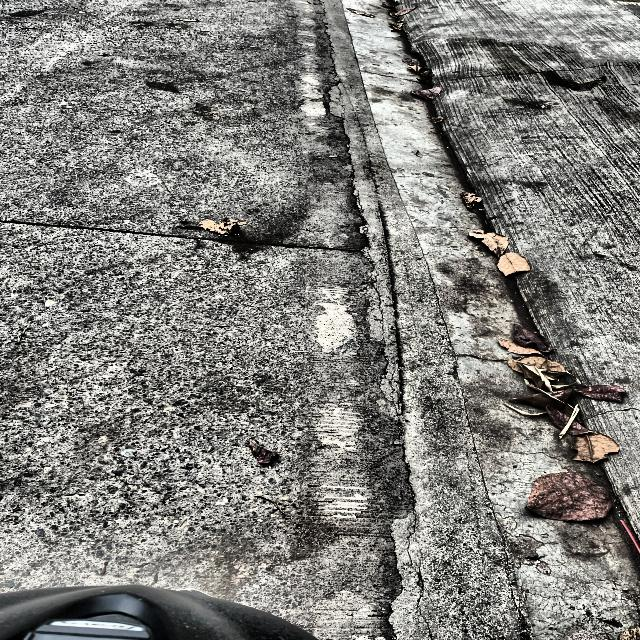no_or_faded_road_markings: (291, 0, 394, 560)
